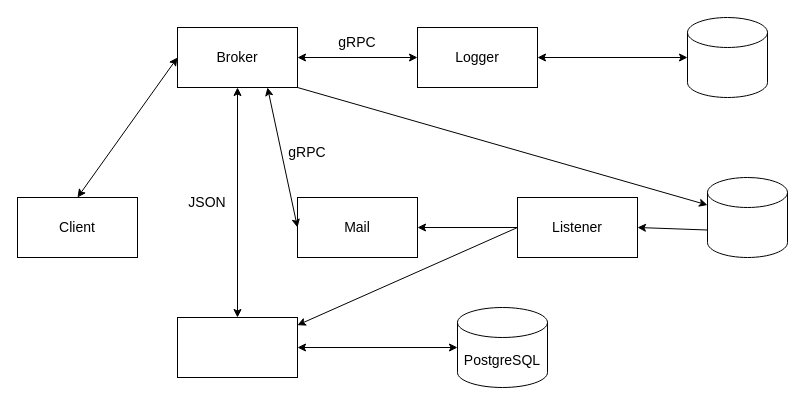
Image size: 805x405. Some labels were removed from this diagram. Each missing label, with the centre of its shape:
"Auth" belongs at (237,347).
"MongoDB" belongs at (727,57).
"RabbitMQ" belongs at (747,217).
